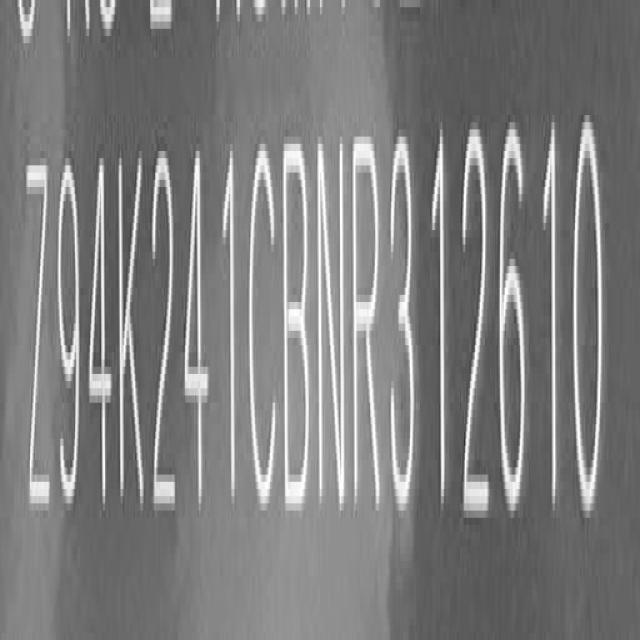0: (571, 113, 607, 527), (247, 138, 277, 524)
1: (218, 139, 242, 519), (431, 125, 450, 531), (542, 113, 560, 515)
2: (459, 119, 492, 525), (149, 144, 179, 524)
3: (394, 124, 422, 520)
4: (184, 144, 216, 529), (87, 147, 116, 522)
6: (498, 119, 530, 522)
9: (56, 152, 83, 524)
B: (285, 126, 315, 518)
K: (116, 151, 146, 522)
N: (317, 128, 349, 522)
R: (353, 131, 386, 518)
Z: (23, 153, 52, 529)
